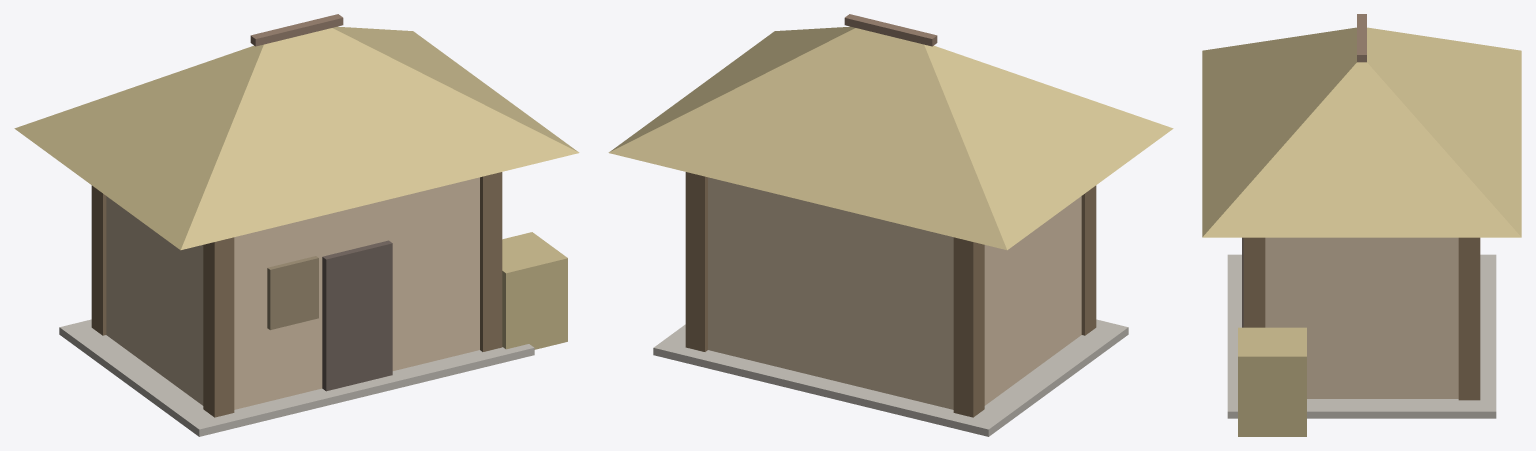
File: farmhouse_d.glb
3 views of the same model, side by side, from view 1: azimuth 30°, elevation 25°; view 2: azimuth 150°, elevation 25°; view 3: azimuth 270°, elevation 25° (orthographic). The views are drawn at different scales.
Size of the model in its own units: 4.58 by 3.43 by 3.25.
